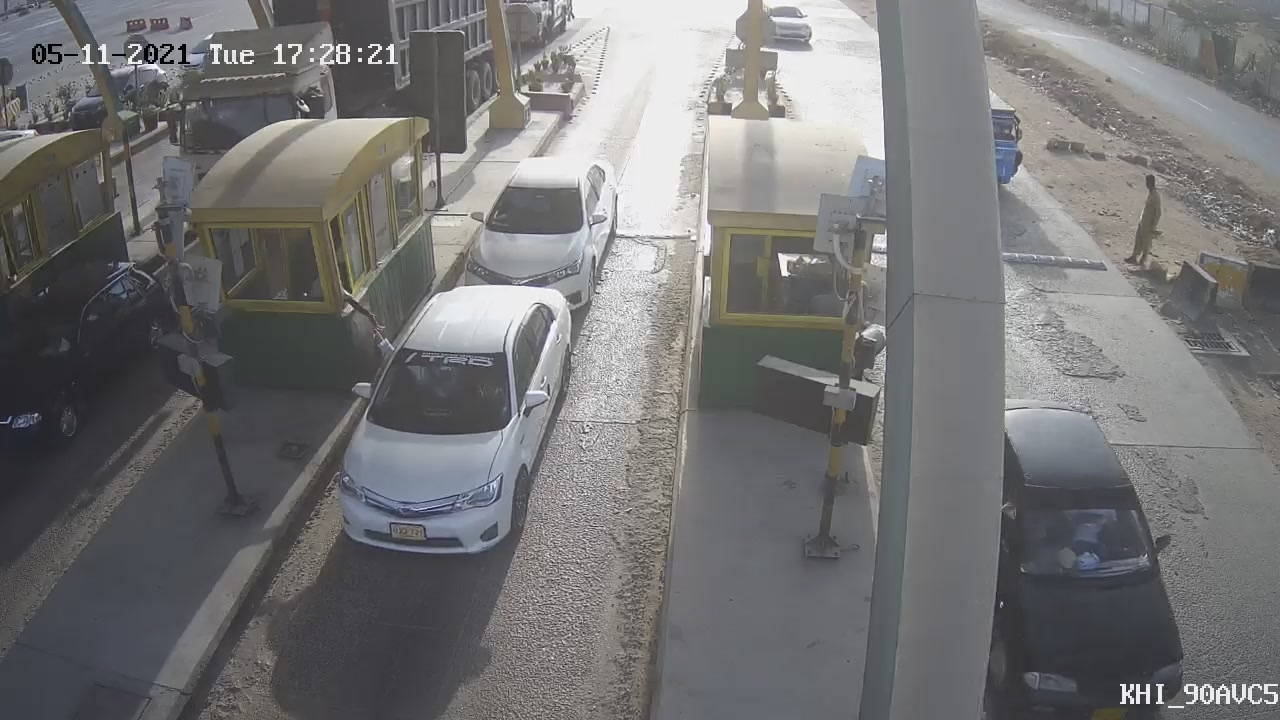F1: (307, 265, 594, 586), (446, 141, 638, 328)
